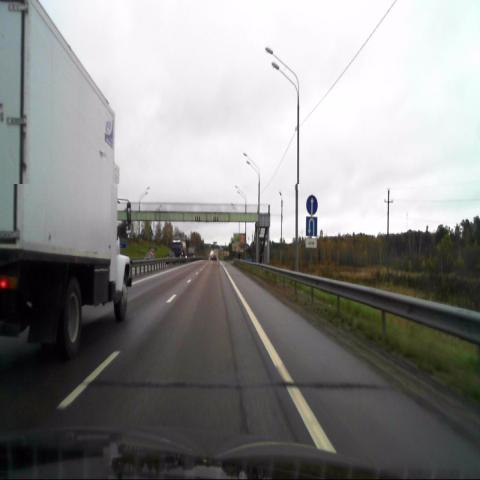6_3_1: (306, 216, 316, 236)
